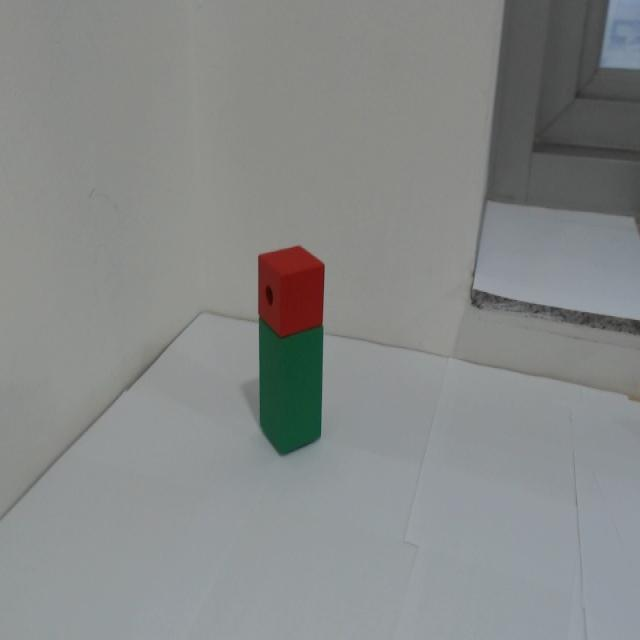cube: (246, 231, 342, 339)
